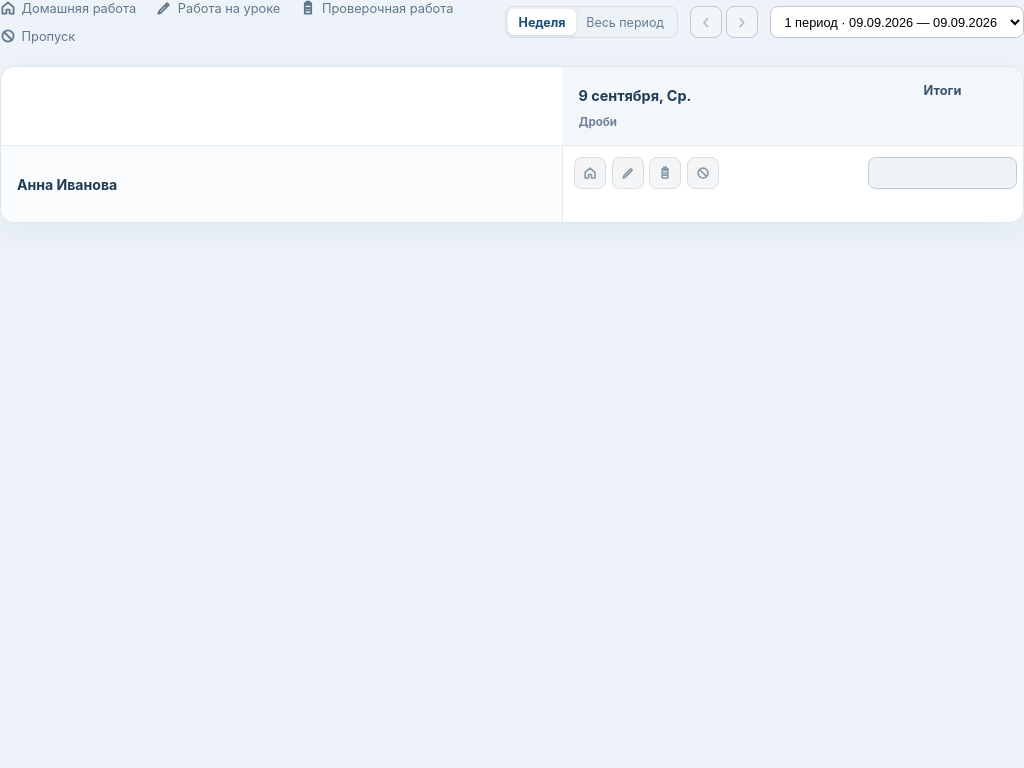
Test: loads roster and saves a score with comment
Click the button named "Изменить оценку Самостоятельная".
click(628, 174)  # box [612,158,644,190]
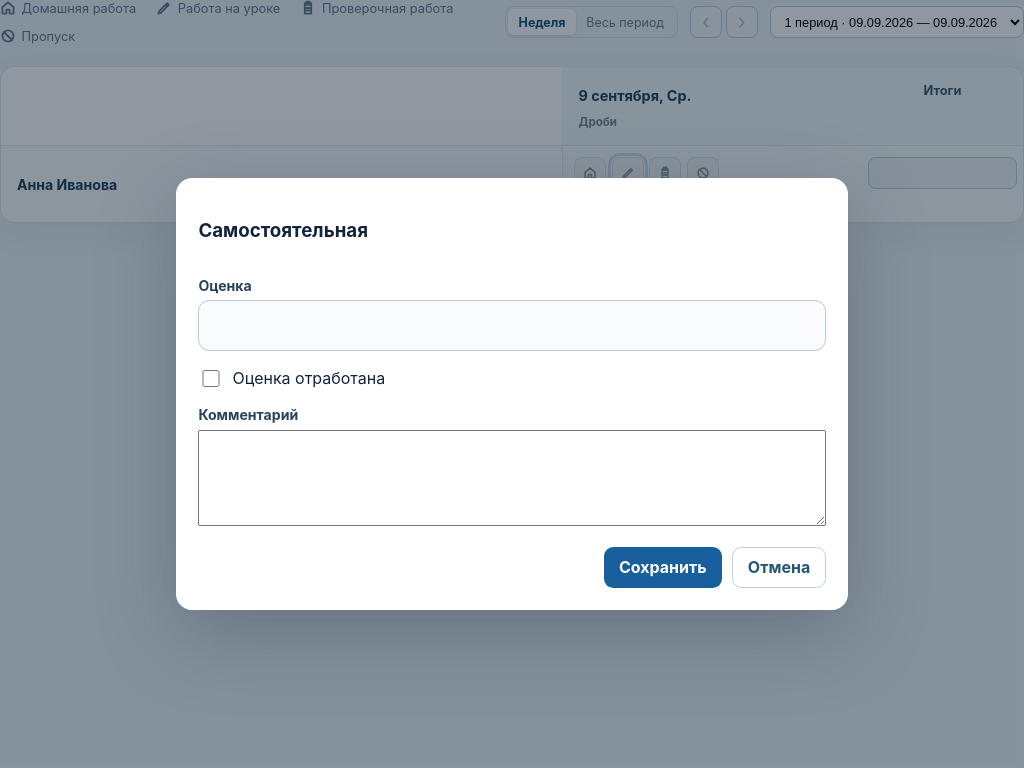
Type "5" into the number field named "Оценка Самостоятельная".
click(512, 325); type("5")  # box [198,300,826,351]
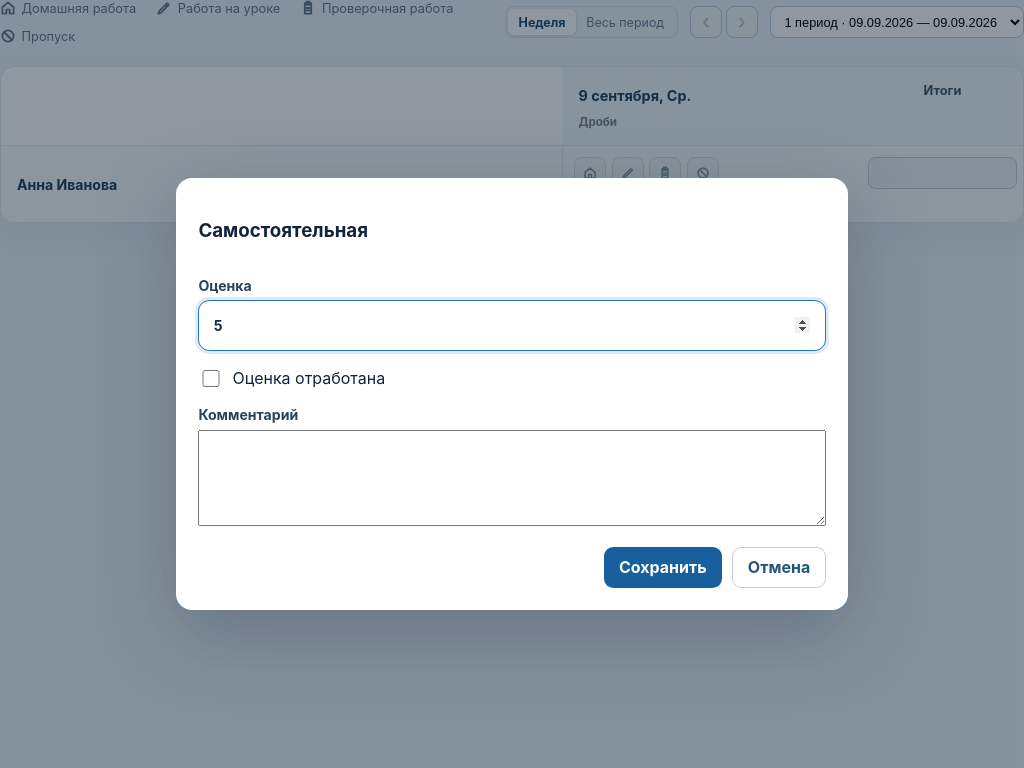
Type "Отлично" into the text box named "Комментарий Самостоятельная".
click(512, 478); type("Отлично")  # box [198,430,826,526]
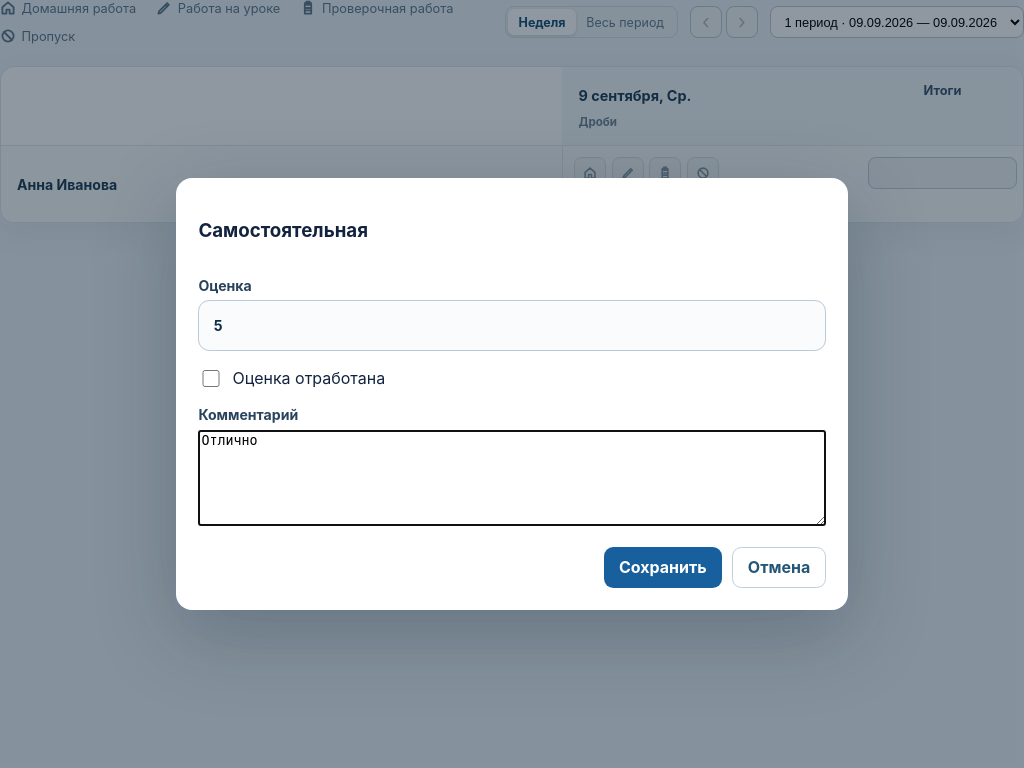
Click the button "Сохранить".
click(663, 567)  # box [604,547,722,588]
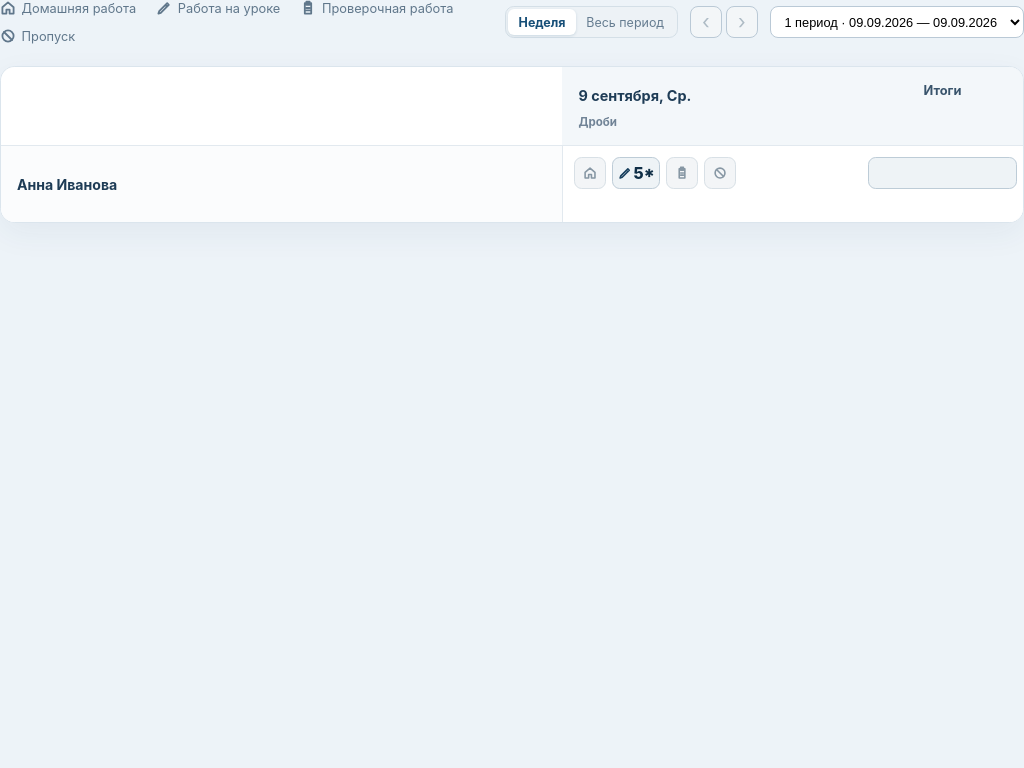
Expected: the text "5*" is shown, [634,166,655,182]
